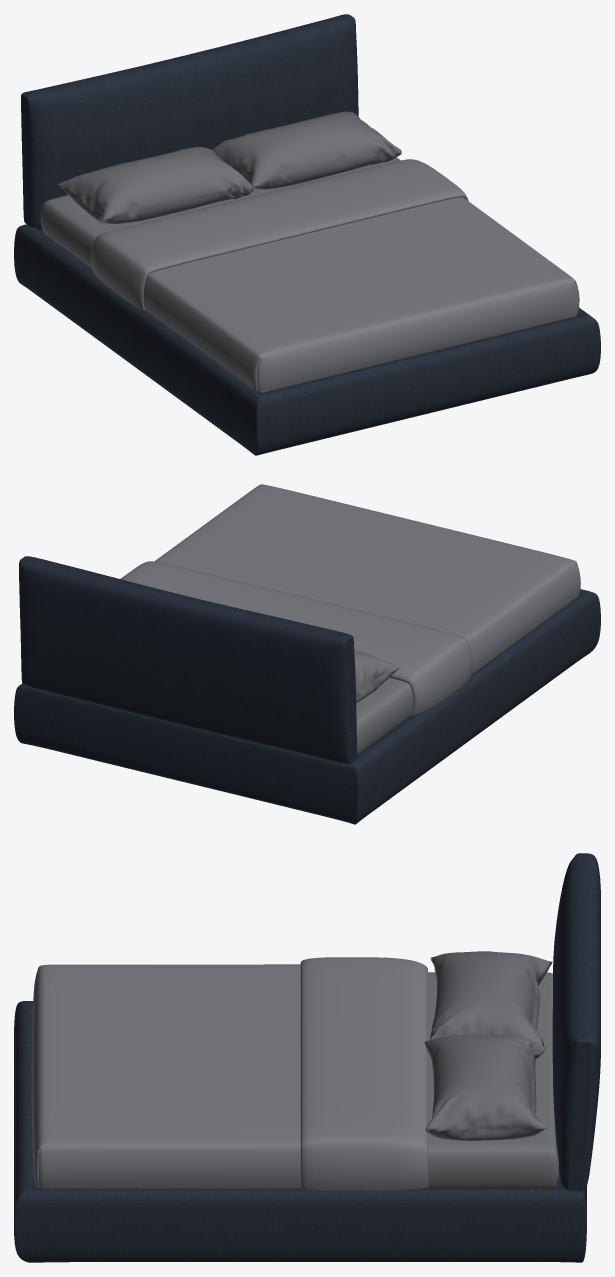
File: Soho_platform_bed.glb
The picture shows the model from 3 angles, top to bottom: view 1: azimuth 30°, elevation 25°; view 2: azimuth 150°, elevation 25°; view 3: azimuth 270°, elevation 25°; orthographic projection. The views are drawn at different scales.
Parts seen in each view (by area): view 1: Object_2, Object_3, Object_5, Object_4; view 2: Object_2, Object_3, Object_4, Object_5; view 3: Object_3, Object_2, Object_5, Object_4.
Boxes of the visible parts, x1,y1,x2,y2 form: Object_2: (14,14,600,455); Object_3: (91,159,579,392); Object_5: (57,111,401,223); Object_4: (40,157,400,268); Object_2: (14,556,600,824); Object_3: (120,484,580,715); Object_4: (356,677,413,755); Object_5: (354,650,399,702); Object_3: (31,957,428,1190); Object_2: (14,853,600,1262); Object_5: (424,951,552,1140); Object_4: (428,972,559,1187).
Bounding box in the file's own units: 1.8 × 0.9385 × 2.25.
4 materials, 1 textured.
